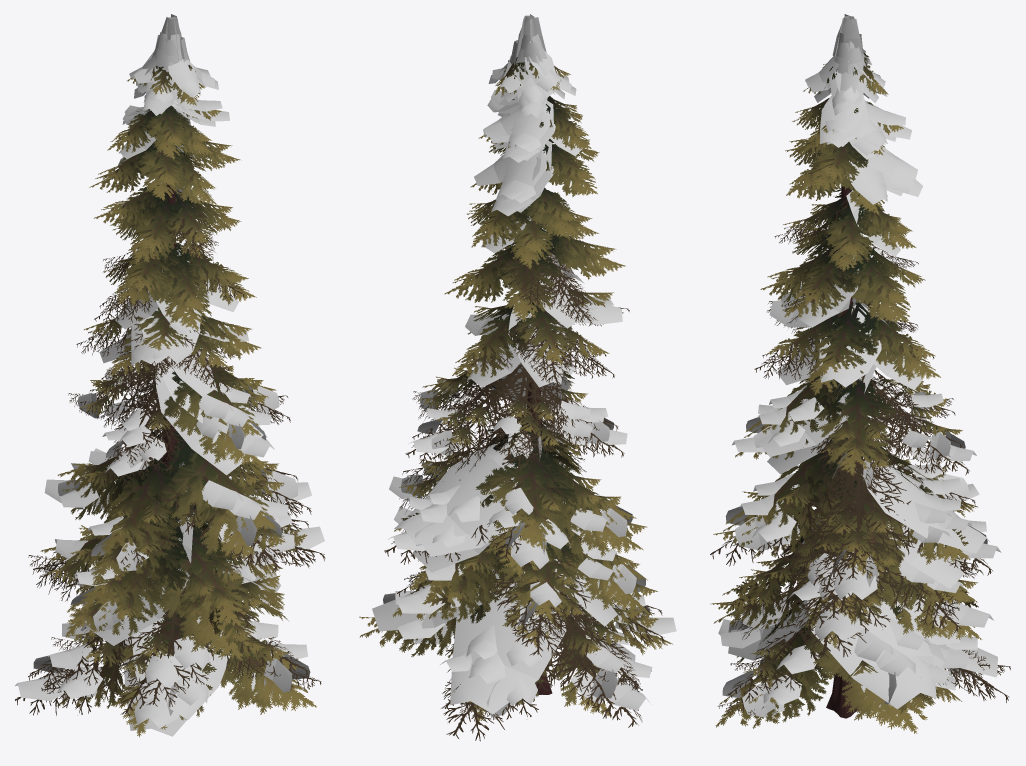
The model's file is Fir_XL_dead.fbx.
3 renders of one model, left to right at view 1: azimuth 30°, elevation 25°; view 2: azimuth 150°, elevation 25°; view 3: azimuth 270°, elevation 25°, orthographic. The views are drawn at different scales.
Parts seen in each view (by area): view 1: polySurface2246; view 2: polySurface2246; view 3: polySurface2246.
Boxes of the visible parts, x1,y1,x2,y2 form: polySurface2246: (15, 14, 325, 737); polySurface2246: (359, 14, 676, 741); polySurface2246: (710, 14, 1010, 733).
Size of the model in its own units: 611 by 1407 by 559.
